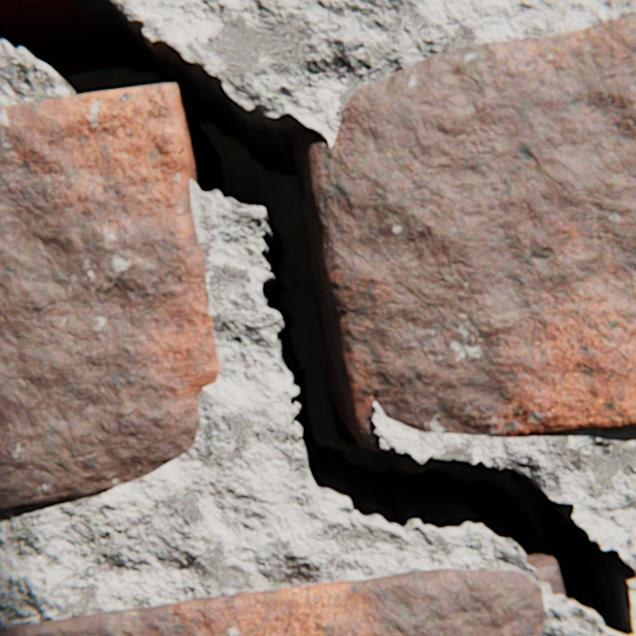brick: (319, 18, 635, 437), (0, 84, 220, 510), (0, 567, 543, 635)
crack: (0, 0, 635, 635)
